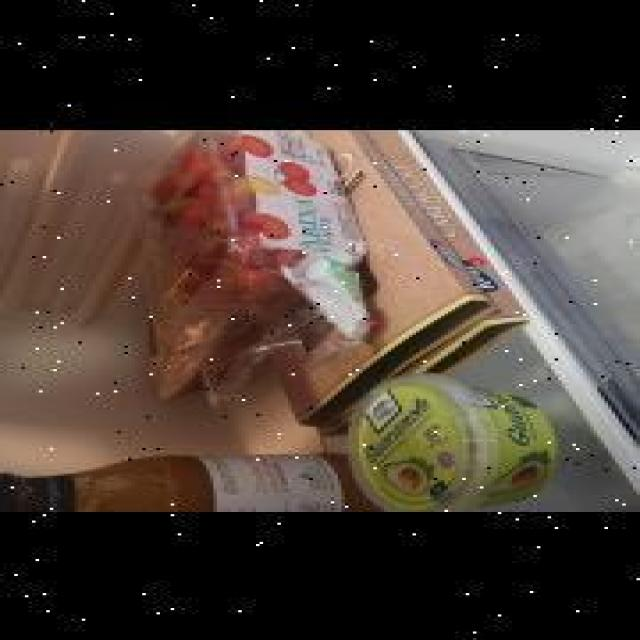guacamole: (348, 370, 562, 511)
tomato: (140, 128, 368, 324)
